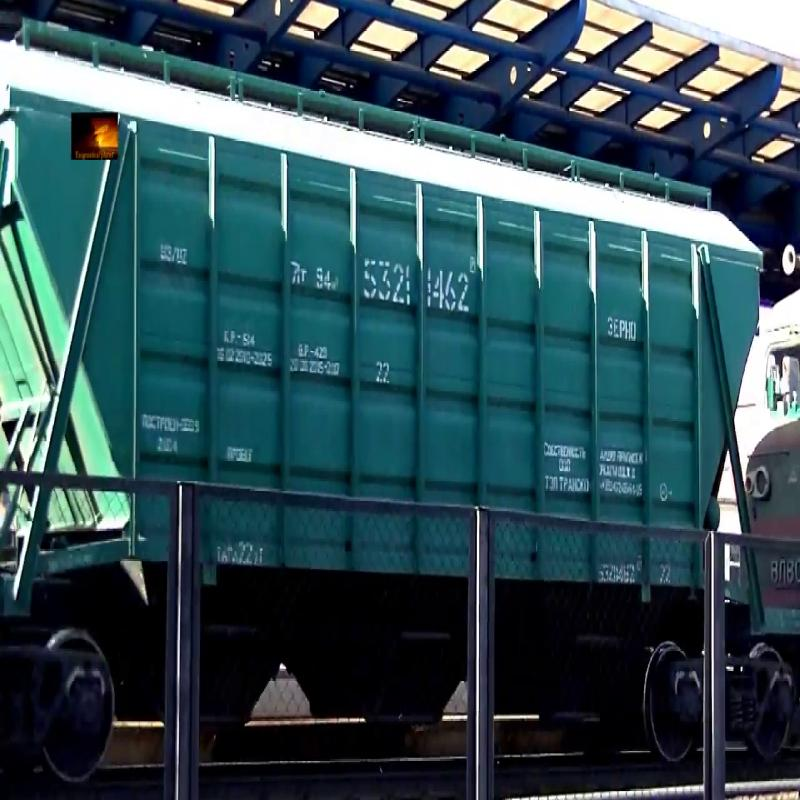train: (1, 50, 772, 714)
